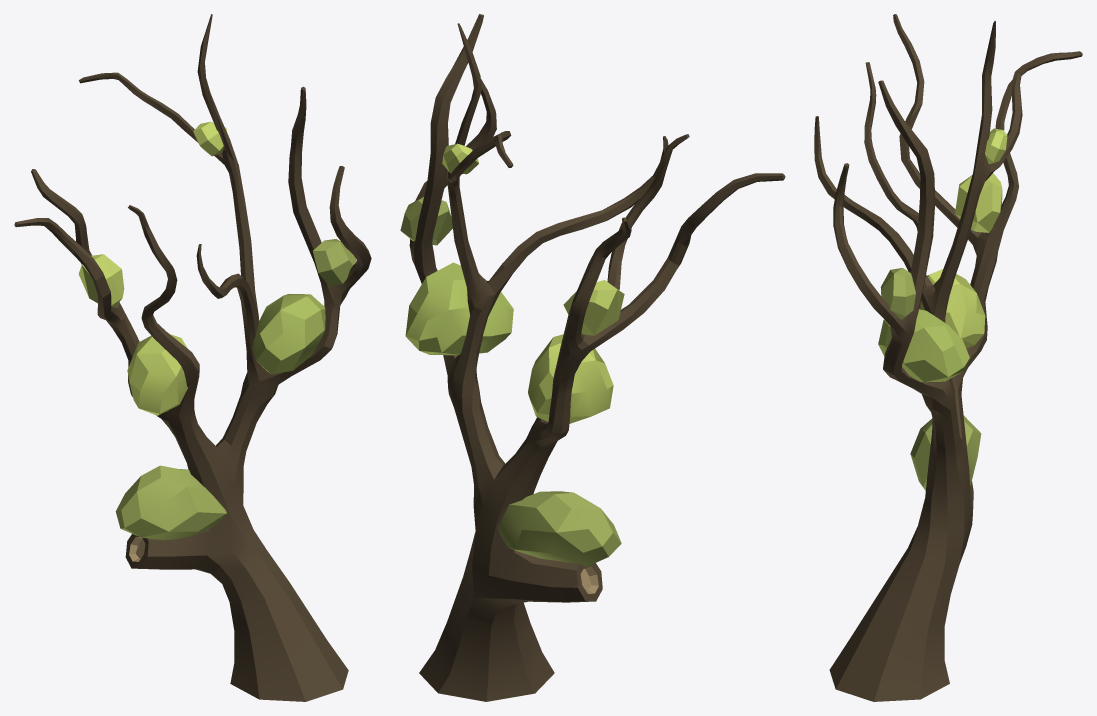
The model's file is EA03_Nature_Tree_05a.fbx.
3 renders of one model, left to right at view 1: azimuth 30°, elevation 25°; view 2: azimuth 150°, elevation 25°; view 3: azimuth 270°, elevation 25°, orthographic. The views are drawn at different scales.
Parts seen in each view (by area): view 1: EA03_Nature_Tree_05a_LOD0; view 2: EA03_Nature_Tree_05a_LOD0; view 3: EA03_Nature_Tree_05a_LOD0.
Boxes of the visible parts, x1=… form: EA03_Nature_Tree_05a_LOD0: x1=14, y1=14, x2=371, y2=701; EA03_Nature_Tree_05a_LOD0: x1=400, y1=14, x2=785, y2=701; EA03_Nature_Tree_05a_LOD0: x1=814, y1=14, x2=1082, y2=701.
Size of what is drawn, in the model's own units: 6.7 by 11.76 by 4.45.
